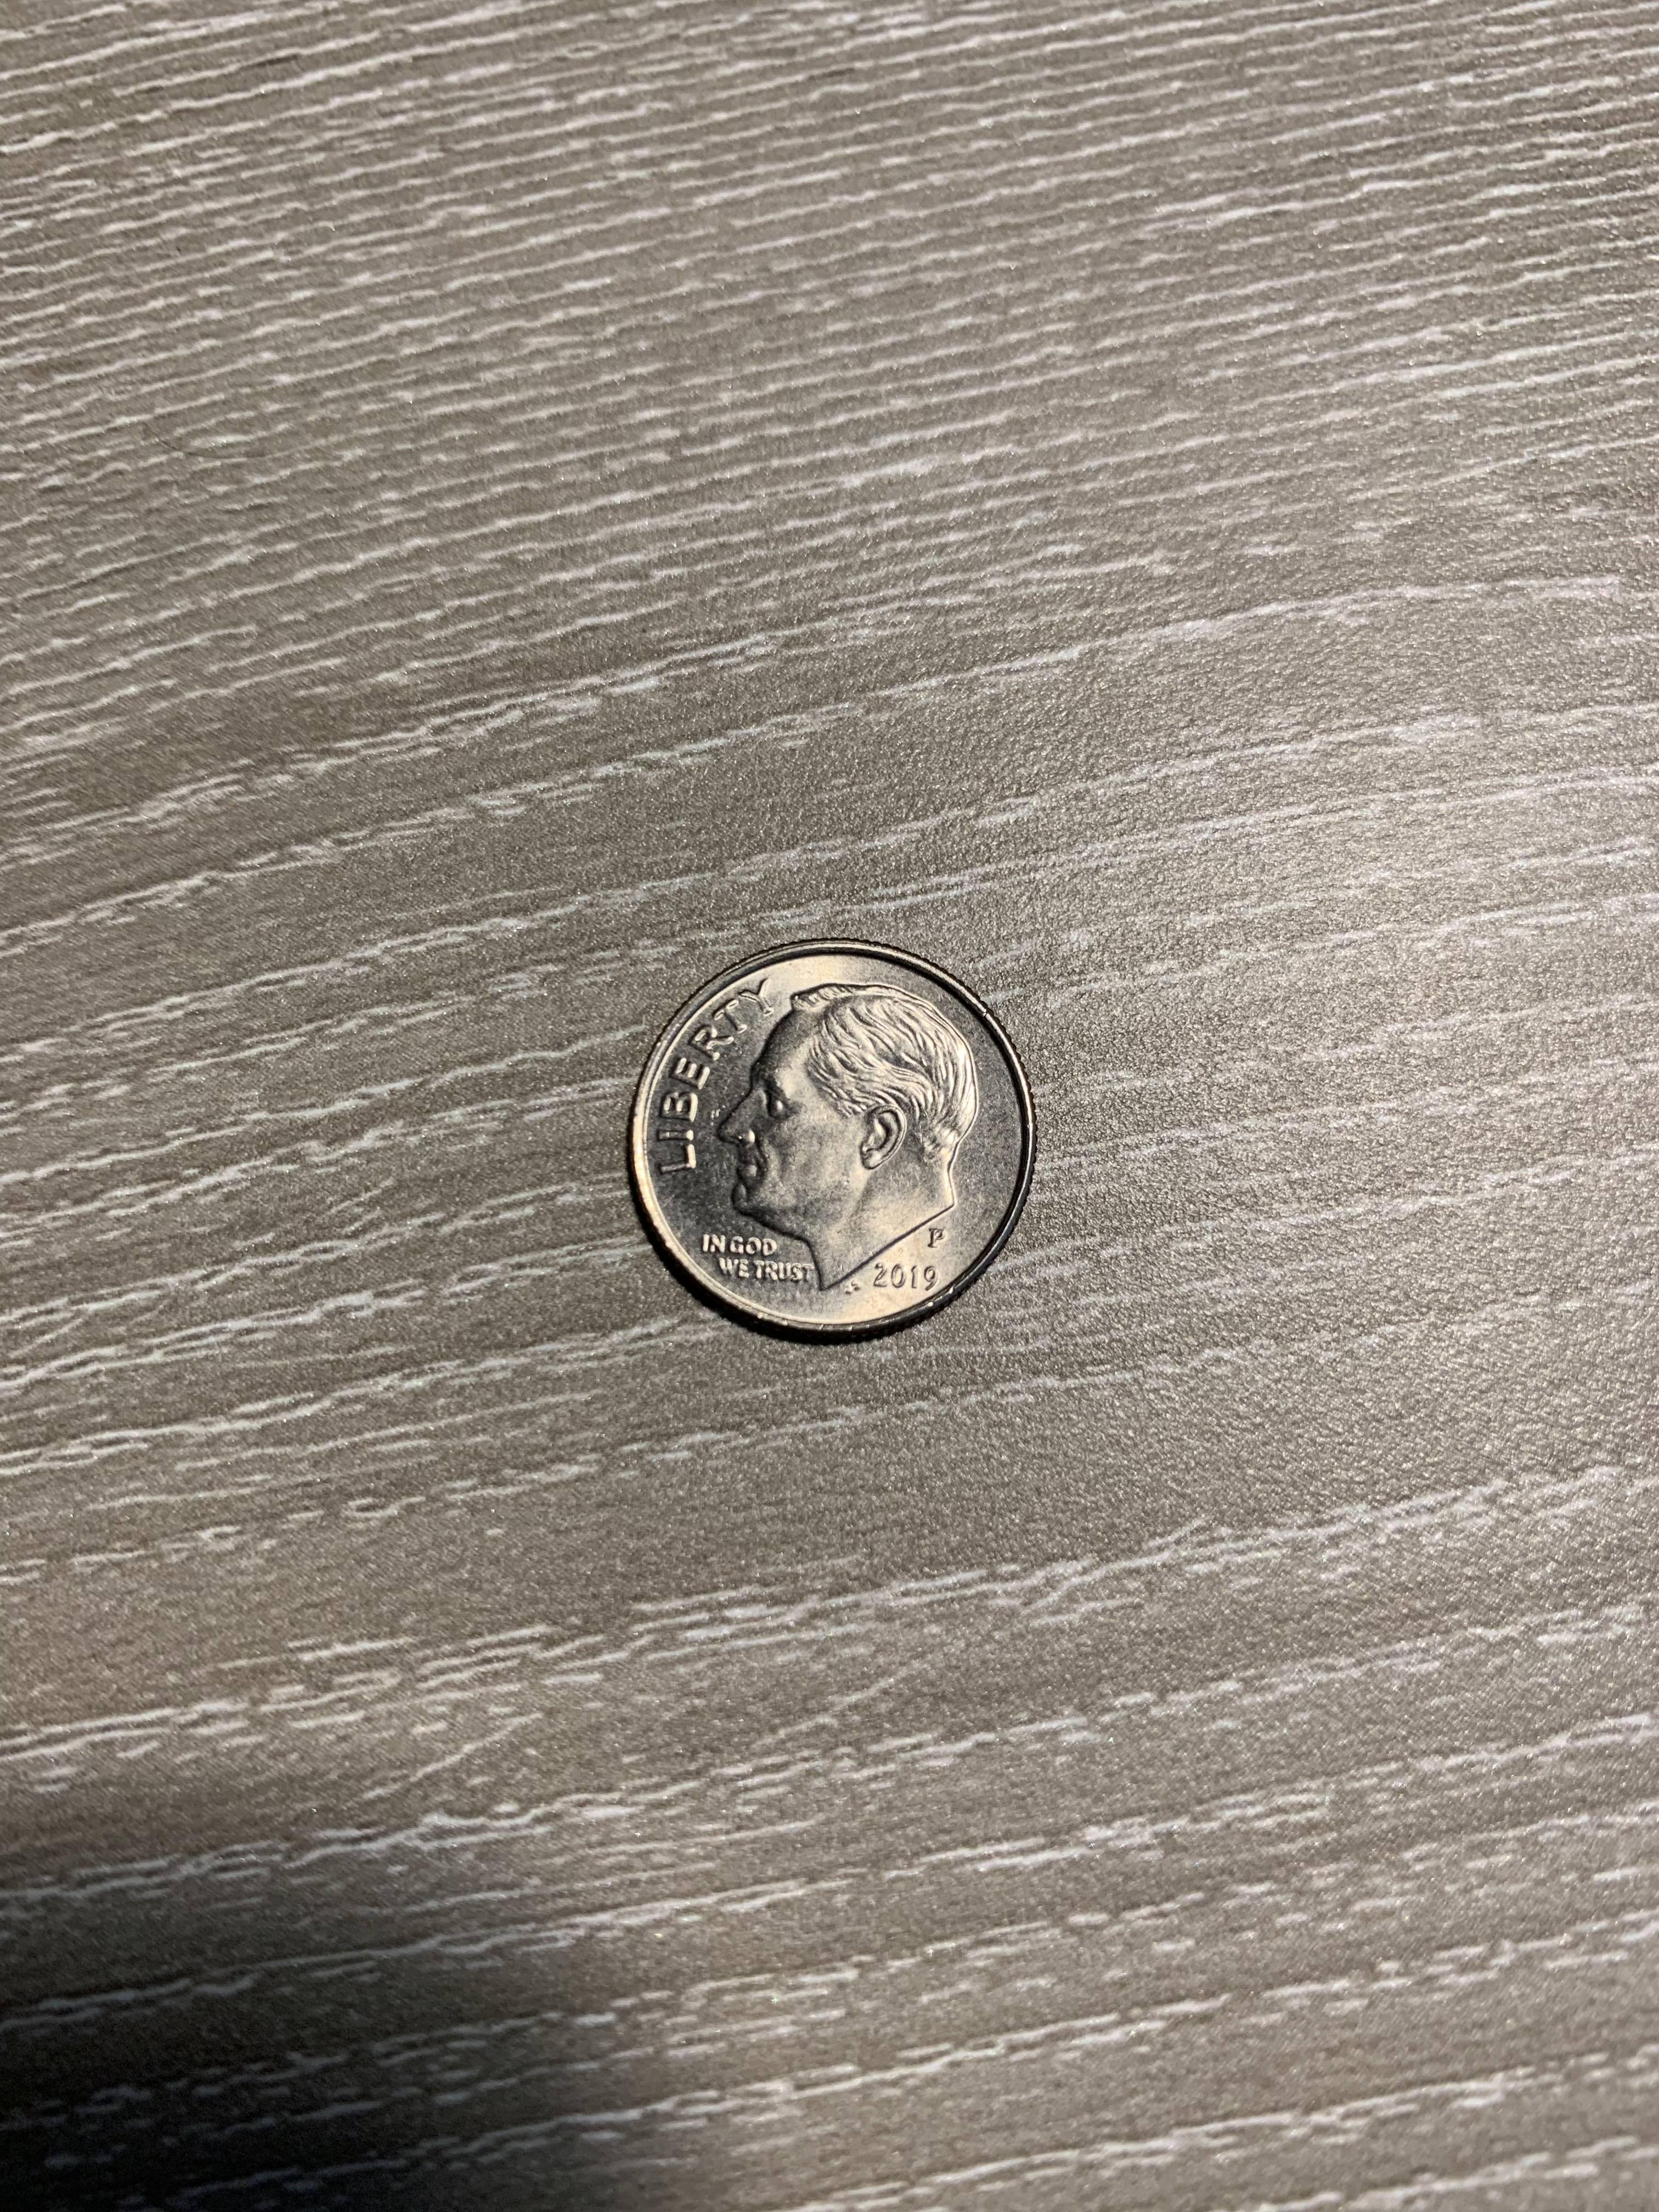Dime: (612, 923, 1051, 1352)
